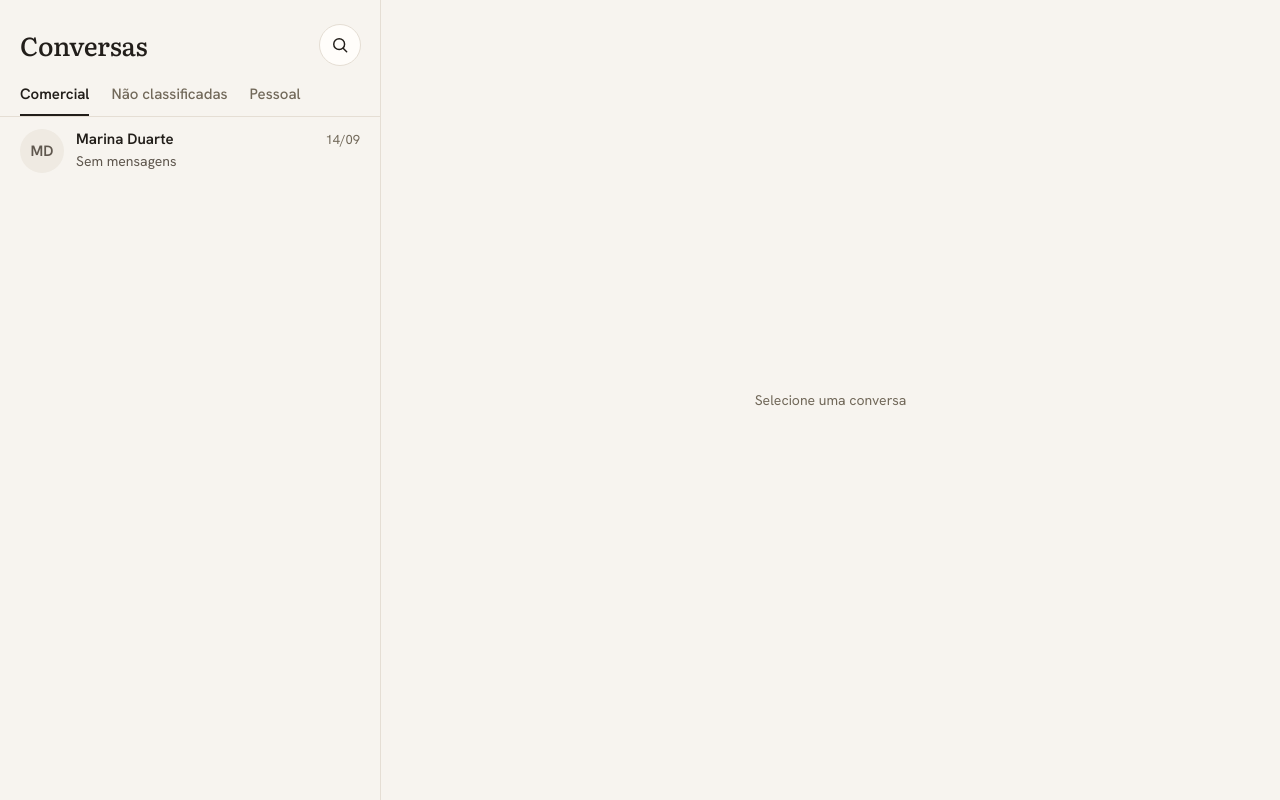
it: a busca é do backend e tem estados próprios › a busca viaja com a aba corrente e o vazio de busca não é o vazio de aba
The image size is (1280, 800).
Expected: the text "Marina Duarte" is shown, [76,129,174,149]
Click the tab "Pessoal". click: (275, 100)
box: [250,84,301,116]
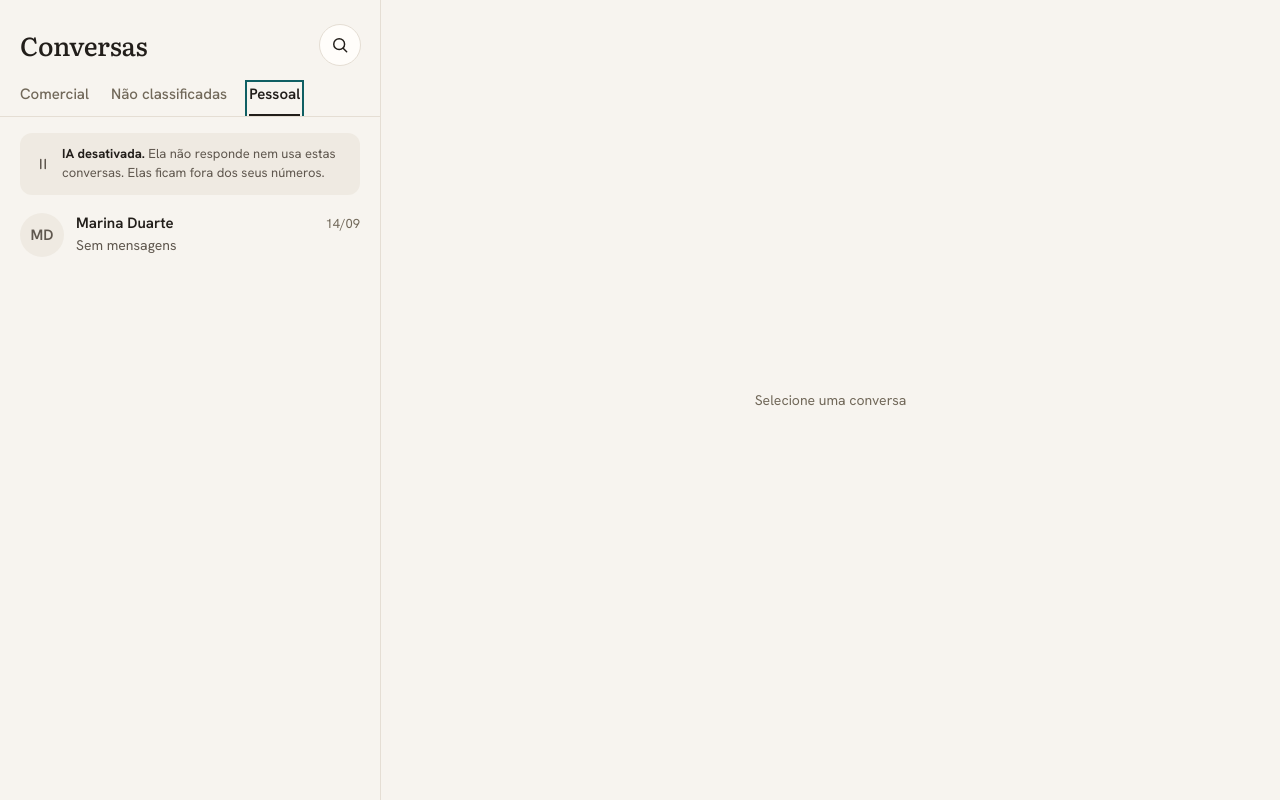
Click the button named "Buscar conversas". click: (340, 45)
box: [318,23,362,67]
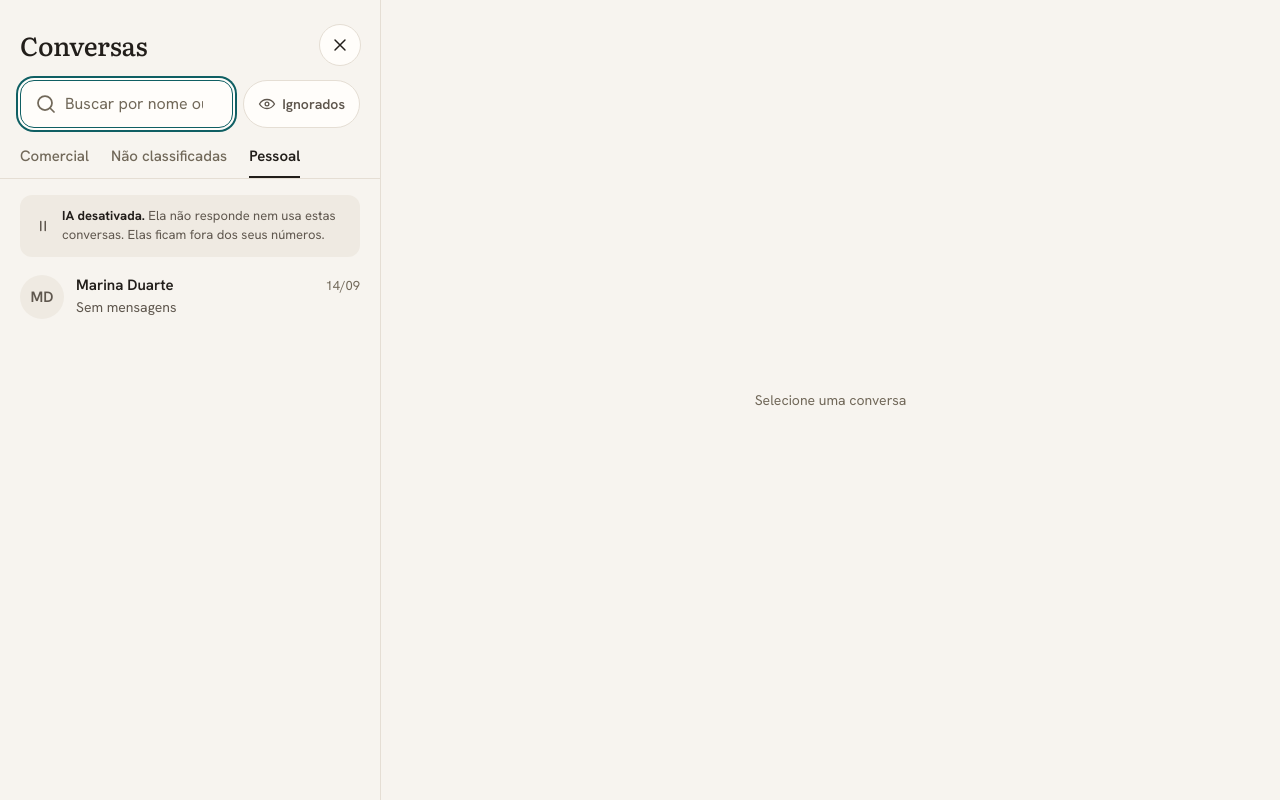
Type "Bruno" into the search field labelled "Buscar por nome ou telefone". click: (127, 104)
box: [20,80,233,128]
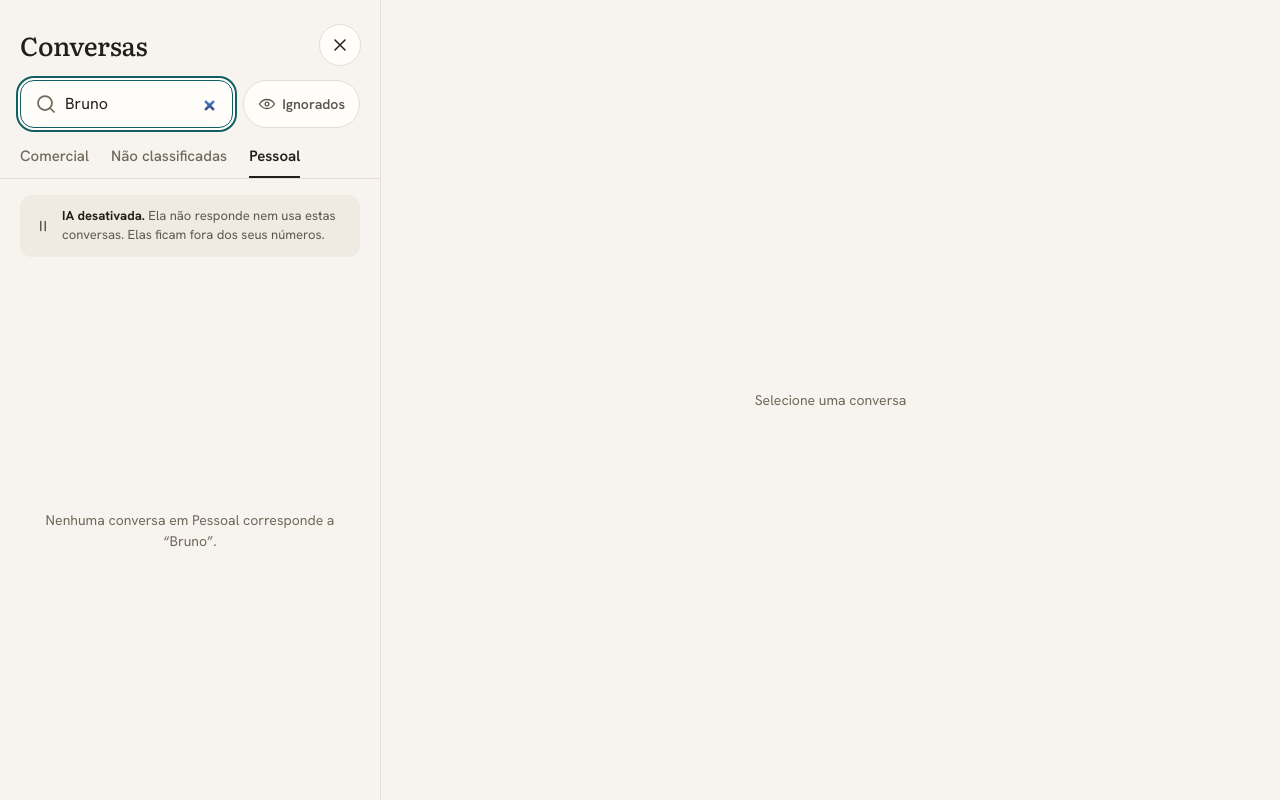
Expected: the text "Nenhuma conversa em Pessoal corresponde a “Bruno”." is shown, [46,511,334,550]
